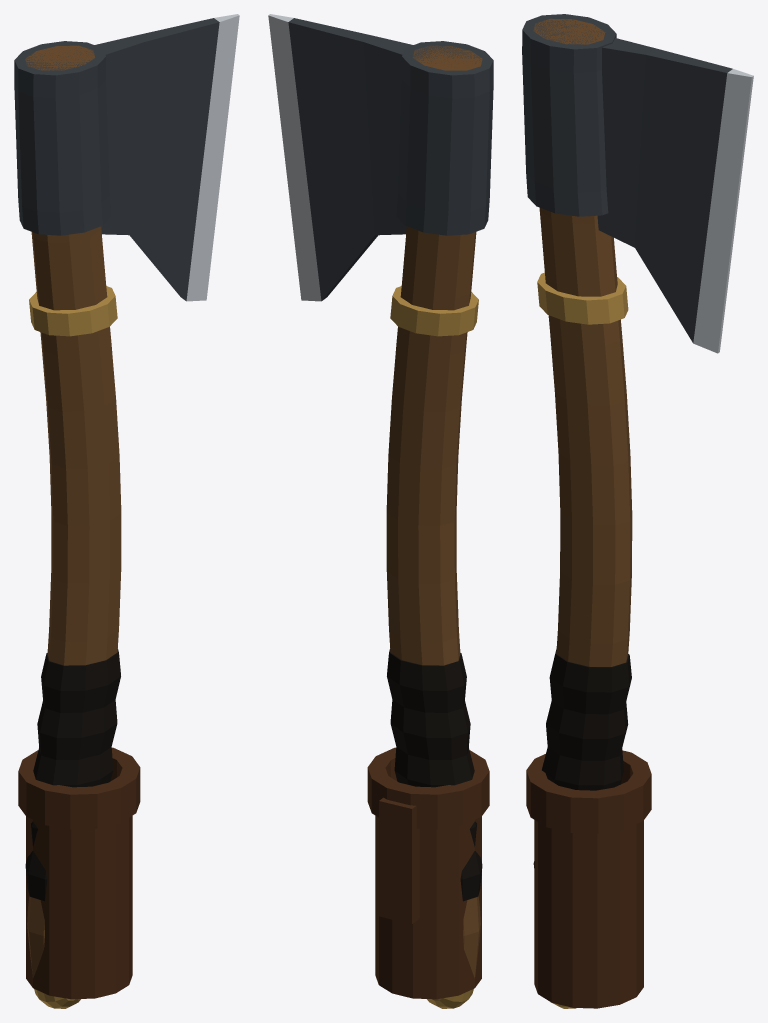
Rendered from wreckers-axe.glb.
3 renders of one model, left to right at view 1: azimuth 30°, elevation 25°; view 2: azimuth 150°, elevation 25°; view 3: azimuth 330°, elevation 25°, orthographic. The views are drawn at different scales.
Visible parts, largest first — view 1: weapon, carrier; view 2: weapon, carrier; view 3: weapon, carrier.
Boxes of the visible parts, x1=… form: weapon: x1=14, y1=14, x2=239, y2=1008; carrier: x1=18, y1=747, x2=140, y2=999; weapon: x1=268, y1=14, x2=493, y2=1008; carrier: x1=367, y1=747, x2=489, y2=999; weapon: x1=522, y1=14, x2=753, y2=1008; carrier: x1=526, y1=750, x2=651, y2=1008.
Size of the model in its own units: 0.2 by 0.822 by 0.0988.
